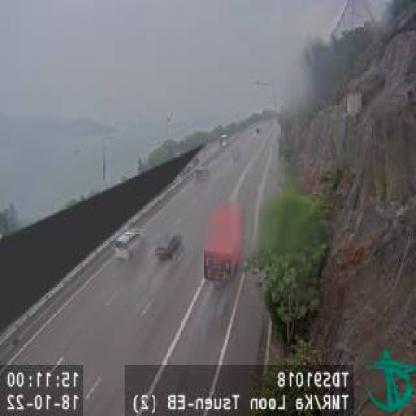Car: (114, 227, 143, 262), (154, 231, 180, 260)
Truck: (203, 204, 245, 286)
